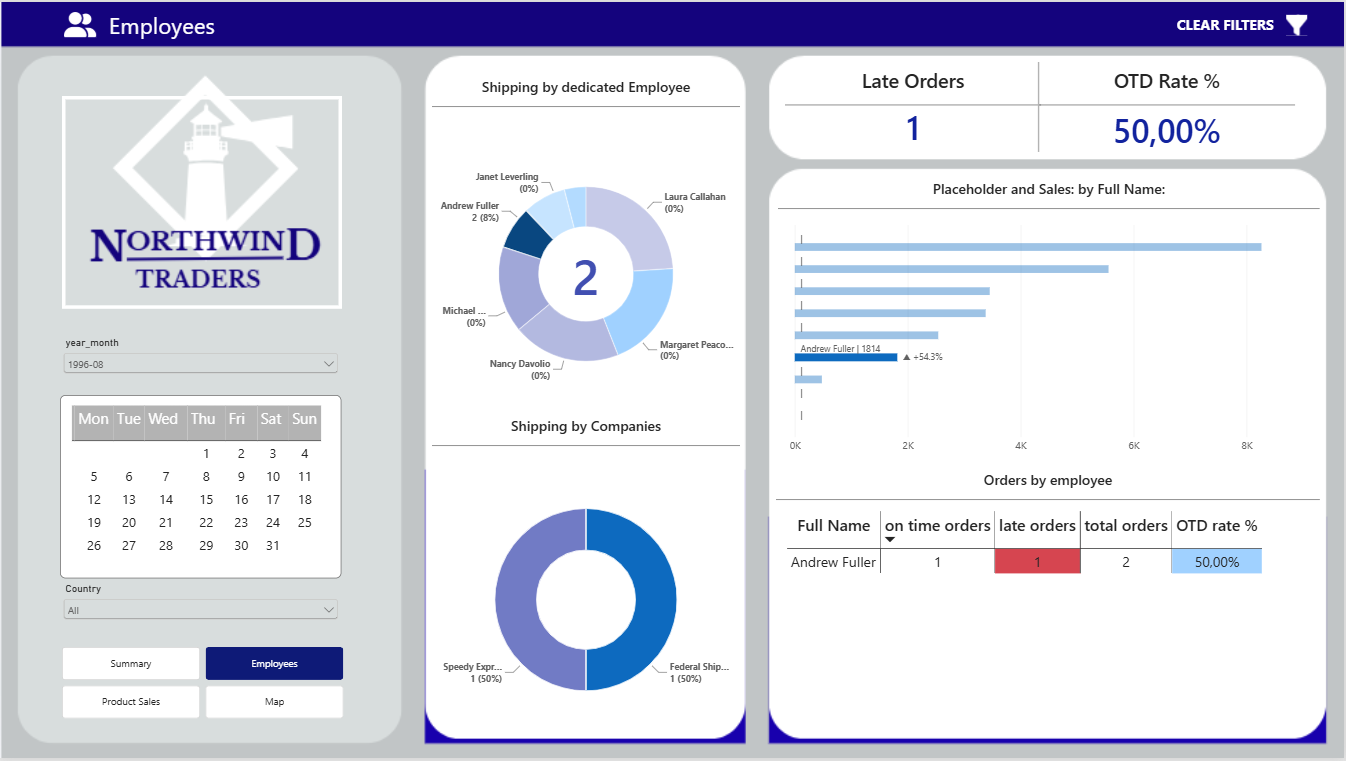

The page's visual inventory and layout, read from the dashboard file:
{"tool":"powerbi","page":{"name":"Employees","canvas":[1920,1080],"ordinal":1},"visuals":[{"type":"image","box":[0,0,1920,1080],"z":0},{"type":"pivotTable","title":"Orders by employee","fields":{"Rows":["Employees.Full Name"],"Values":["Mesures.orders_on_time","Mesures.tot_late_orders","Mesures.tot_orders","Mesures.OTD_rate_%"]},"box":[1108.2,654.6,777.1,385.5],"z":1000},{"type":"card","title":"Late Orders","fields":{"Values":["Mesures.tot_late_orders"]},"box":[1121,77.9,365.7,145],"z":2000},{"type":"card","title":"OTD Rate %","fields":{"Values":["Mesures.OTD_rate_%"]},"box":[1484.6,77.9,365.7,151.5],"z":3000},{"type":"donutChart","title":"Shipping by Companies","fields":{"Category":["Shippers.CompanyName"],"Y":["Mesures.tot_shipments"]},"box":[616.8,577.5,439.9,495.9],"z":4000},{"type":"donutChart","title":"Shipping by dedicated Employee","fields":{"Category":["Employees.Full Name"],"Y":["Mesures.tot_shipments"]},"box":[616.8,92.2,439.9,533.7],"z":5000},{"type":"clusteredBarChart","fields":{"Category":["Employees.Full Name"],"Y":["Mesures.Placeholder","Mesures.tot_revenue"]},"box":[1111.2,238.9,774,424.8],"z":6000},{"type":"shape","box":[1430.2,86.2,107.3,128.5],"z":7000},{"type":"slicer","fields":{"Values":["Customers.Country"]},"box":[86,830,402,80],"z":8000},{"type":"slicer","fields":{"Values":["calendar.year_month"]},"box":[86,478,402,84],"z":9000},{"type":"pivotTable","fields":{"Columns":["calendar.day_name"],"Rows":["calendar.week_number"],"Values":["Min(calendar.day_number)"]},"box":[86,562,401.7,261.7],"z":10000},{"type":"pageNavigator","box":[88,922,402,102],"z":11000},{"type":"shape","box":[88,134,400,304],"z":12000},{"type":"actionButton","box":[1832,10,42,46],"z":13000},{"type":"actionButton","box":[1656,12,176,40],"z":14000},{"type":"image","box":[92,4,46,56],"z":15000},{"type":"textbox","box":[156,10,178,62],"z":16000}]}

Visuals, with their boxes in screenshot pixels (x1, y1, x2, y2), scaled from the page's 1920x1080 canvas onto the 1346x761 screenshot:
image: [0,0,1345,760]
"Orders by employee" pivotTable: [777,461,1322,733]
"Late Orders" card: [786,55,1042,157]
"OTD Rate %" card: [1041,55,1297,162]
"Shipping by Companies" donutChart: [432,407,741,756]
"Shipping by dedicated Employee" donutChart: [432,65,741,441]
clusteredBarChart - Employees.Full Name x Mesures.Placeholder: [779,168,1322,468]
shape: [1003,61,1078,151]
slicer - Customers.Country: [60,585,342,641]
slicer - calendar.year_month: [60,337,342,396]
pivotTable - calendar.day_name x calendar.week_number: [60,396,342,580]
pageNavigator: [62,650,344,722]
shape: [62,94,342,309]
actionButton: [1284,7,1314,39]
actionButton: [1161,8,1284,37]
image: [64,3,97,42]
textbox: [109,7,234,51]
